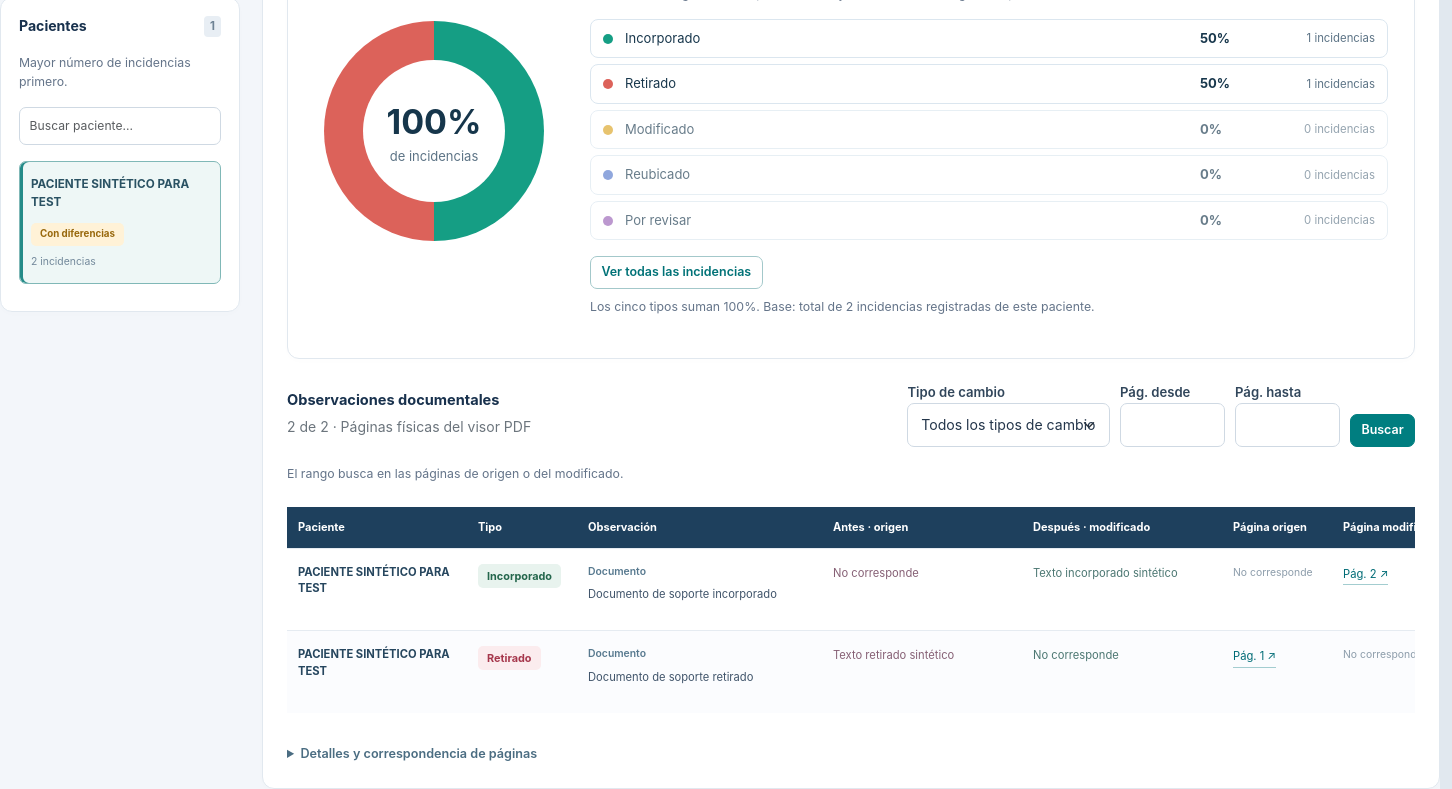
Test: Flujo del auditor › una fila del mapa pendiente de revisión invalida los conteos aunque el estado general diga completado
The image size is (1452, 789).
(page scrolled)
Expected: the text "Documento de soporte incorporado" is shown, [588,587,777,601]
Click the heading "Detalles y correspondencia de páginas" at (419, 753), box [300,746,537,761]
(page scrolled)
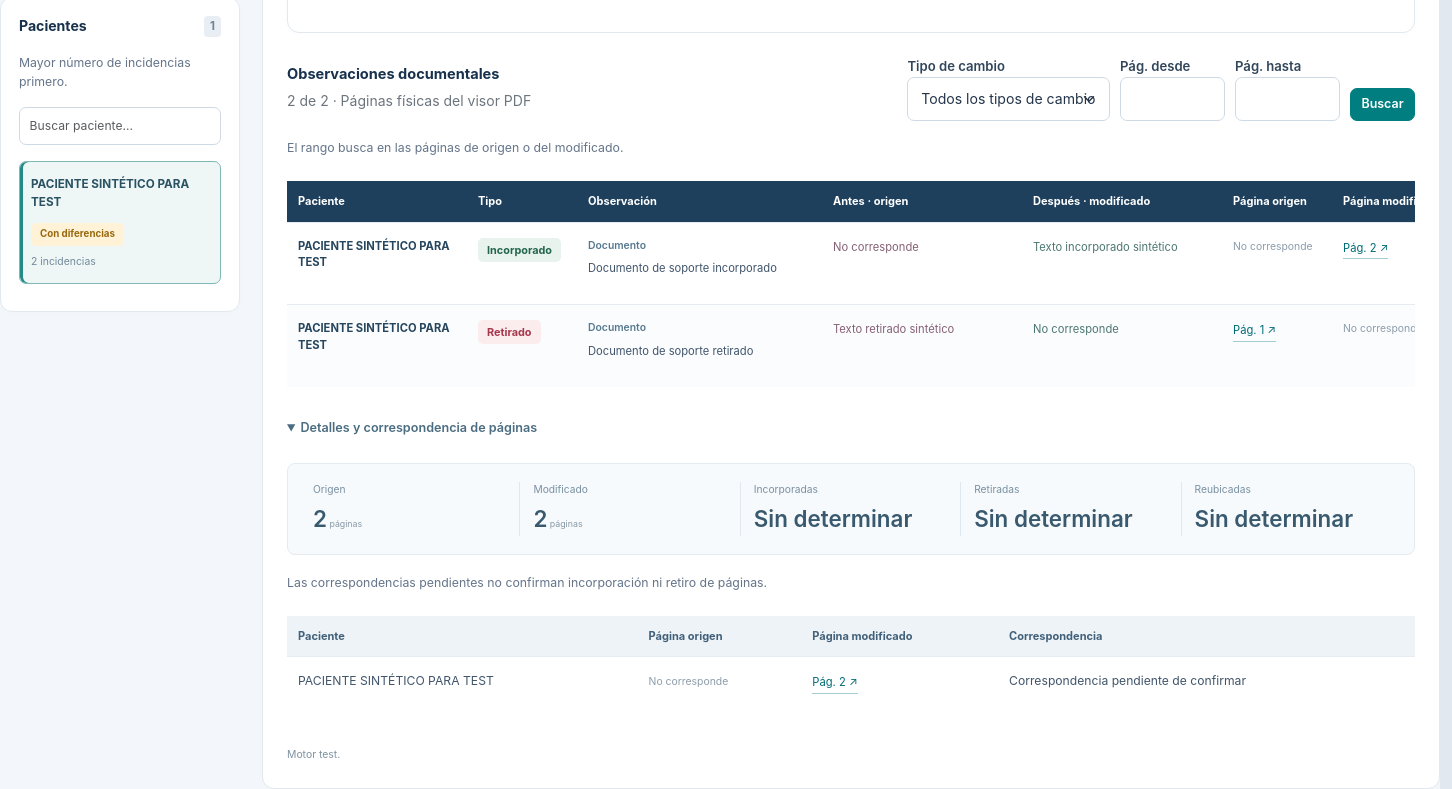
Expected: the text "Sin determinar" is shown 3 times, [754,505,912,532]; [974,505,1133,532]; [1195,505,1353,532]
Expected: the text "Correspondencia pendiente de confirmar" is shown, [998,657,1415,709]
